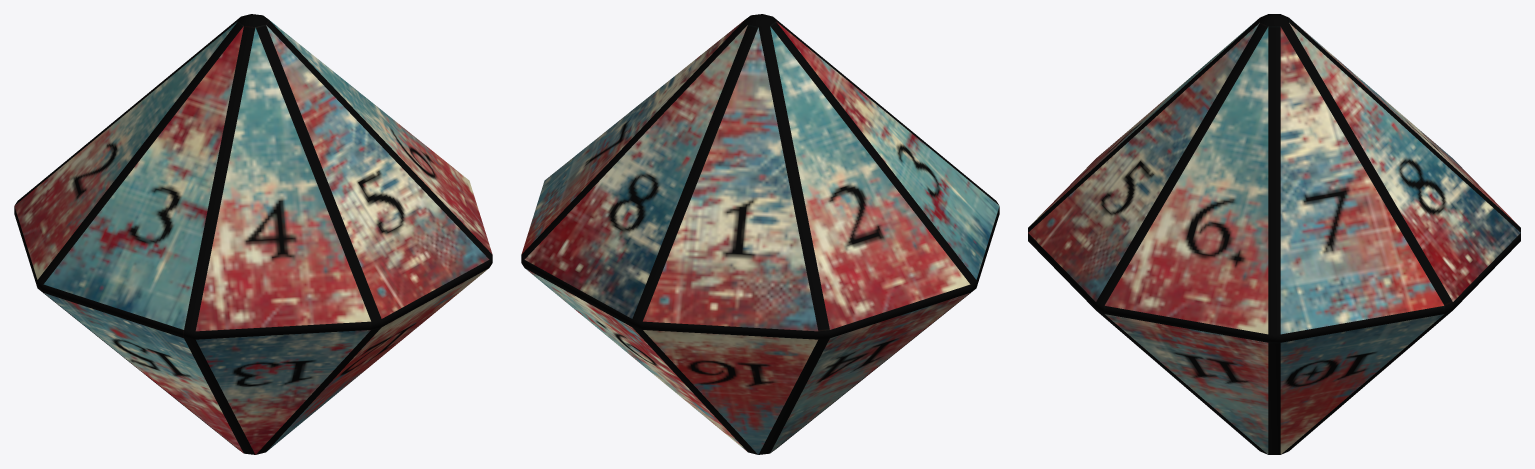
File: chanced16.glb
3 renders of one model, left to right at view 1: azimuth 30°, elevation 25°; view 2: azimuth 150°, elevation 25°; view 3: azimuth 270°, elevation 25°, orthographic.
Parts seen in each view (by area): view 1: Mesh_0; view 2: Mesh_0; view 3: Mesh_0.
Part boxes in pixels (x1,y1,x2,y2): Mesh_0: [14, 14, 492, 454]; Mesh_0: [521, 14, 999, 454]; Mesh_0: [1028, 14, 1520, 454].
Bounding box in the file's own units: 158 × 154 × 158.
Materials: 1 (1 with a texture image).
